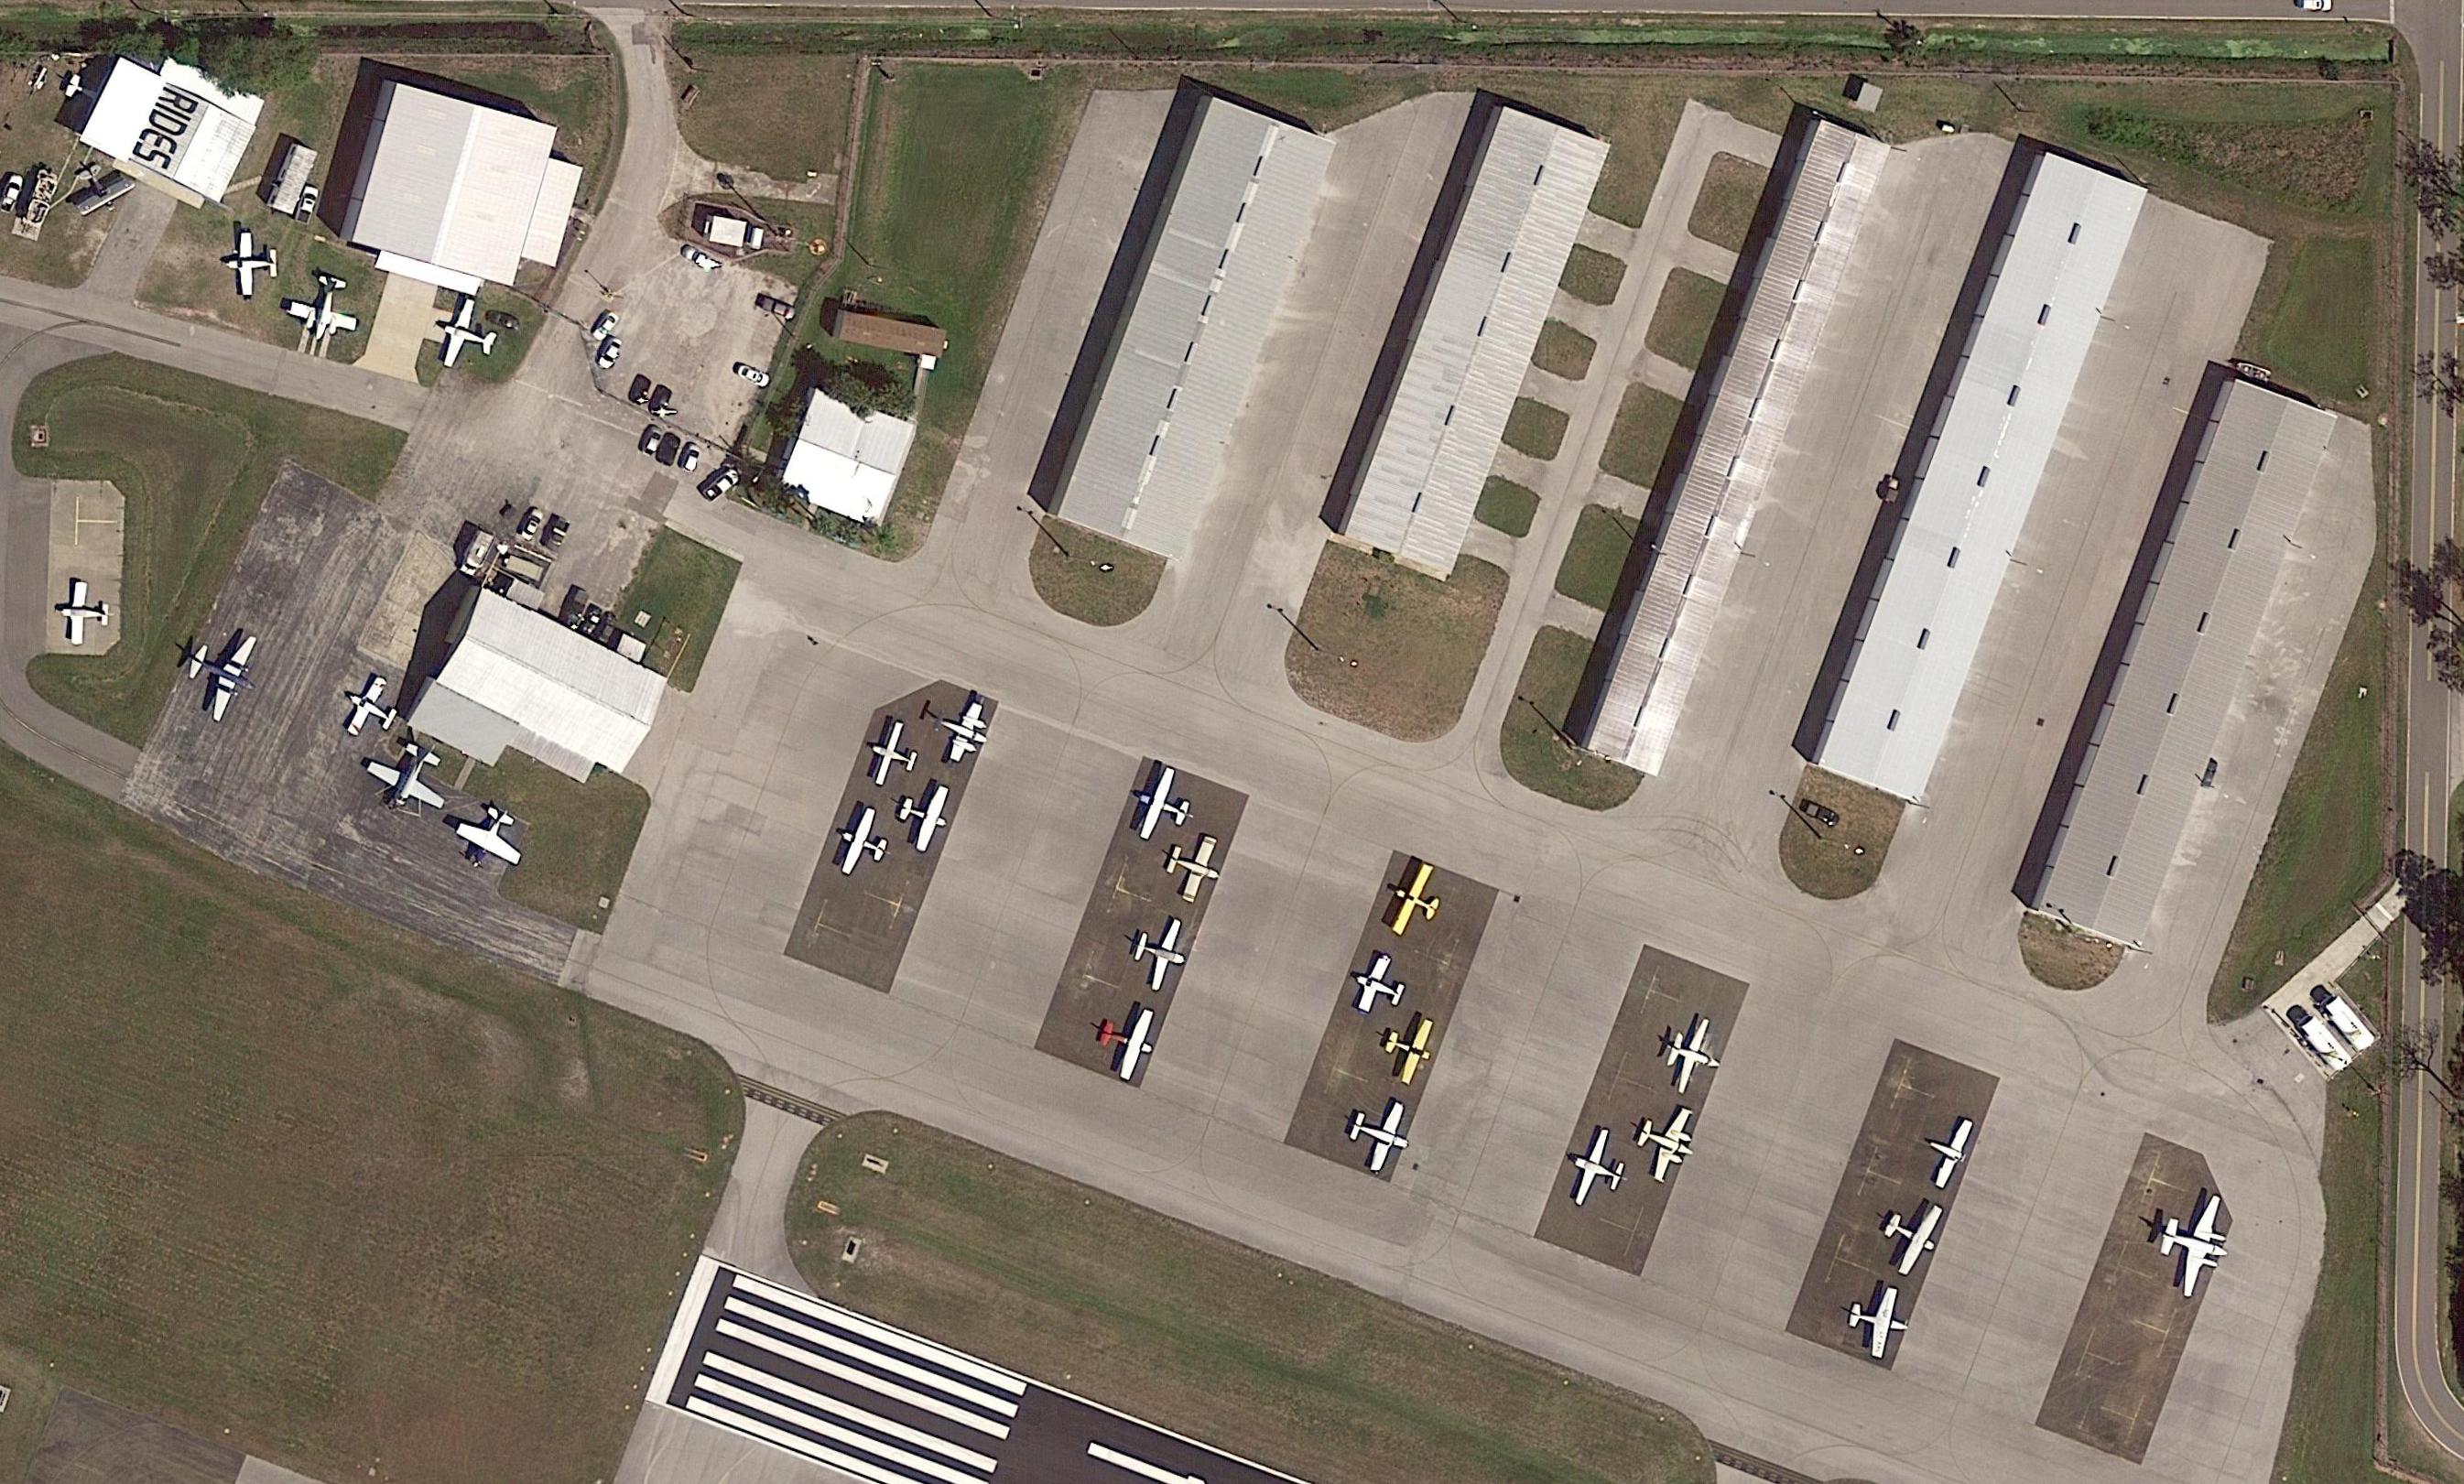plane: (169, 613, 271, 729), (357, 720, 465, 826), (2149, 1183, 2242, 1304), (1621, 1095, 1707, 1192), (919, 683, 1005, 778), (445, 794, 537, 882), (1869, 1188, 1954, 1283), (1559, 1121, 1640, 1218), (1654, 1009, 1734, 1104), (282, 264, 370, 349), (1338, 1090, 1420, 1179), (1125, 760, 1206, 852), (1086, 995, 1165, 1086), (1153, 824, 1230, 912), (1380, 857, 1454, 947), (1839, 1278, 1917, 1363), (1121, 907, 1193, 996), (433, 294, 507, 380), (887, 773, 959, 859), (62, 151, 143, 224), (336, 669, 408, 746), (1373, 1009, 1441, 1090), (829, 803, 898, 884), (1913, 1109, 1978, 1192), (1346, 949, 1413, 1023), (862, 716, 926, 794), (60, 65, 132, 132), (225, 231, 280, 299), (60, 579, 113, 648)
ship: (2233, 361, 2272, 382)
